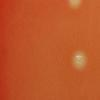white: (71, 50, 87, 71), (68, 0, 83, 9)
